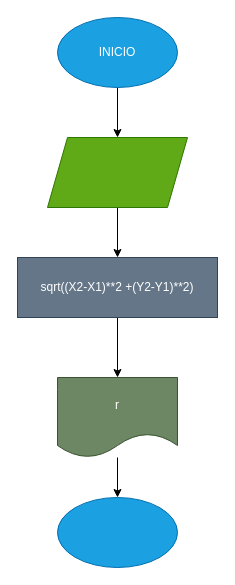
Image size: 235x585. Some labels were removed from this diagram. Here are the shapes that lost their labels. From the top down, the centre of each, then its label:
At point (117, 172): "(X1,Y1) (X2,Y2)".
At point (117, 532): "FIN".
